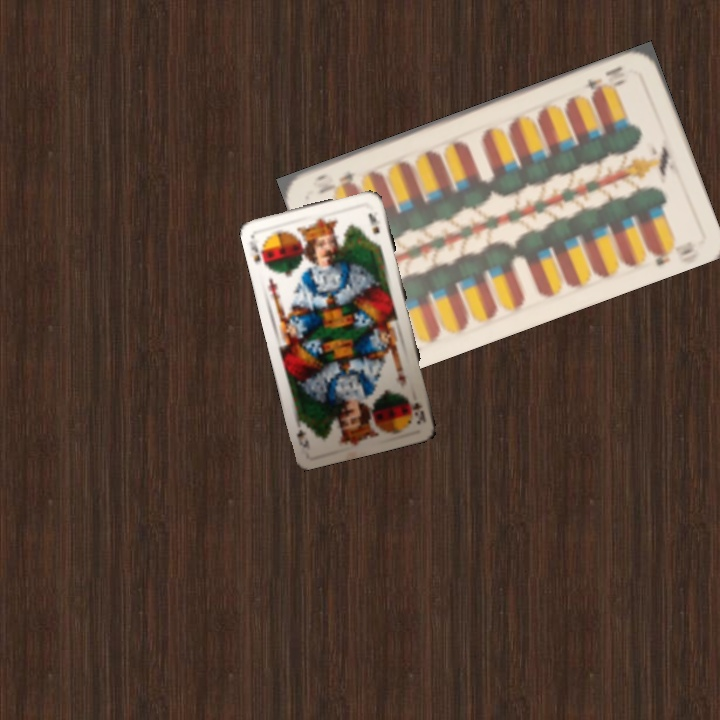E10: (577, 62, 626, 99)
SK: (245, 229, 271, 269), (409, 399, 428, 427)
